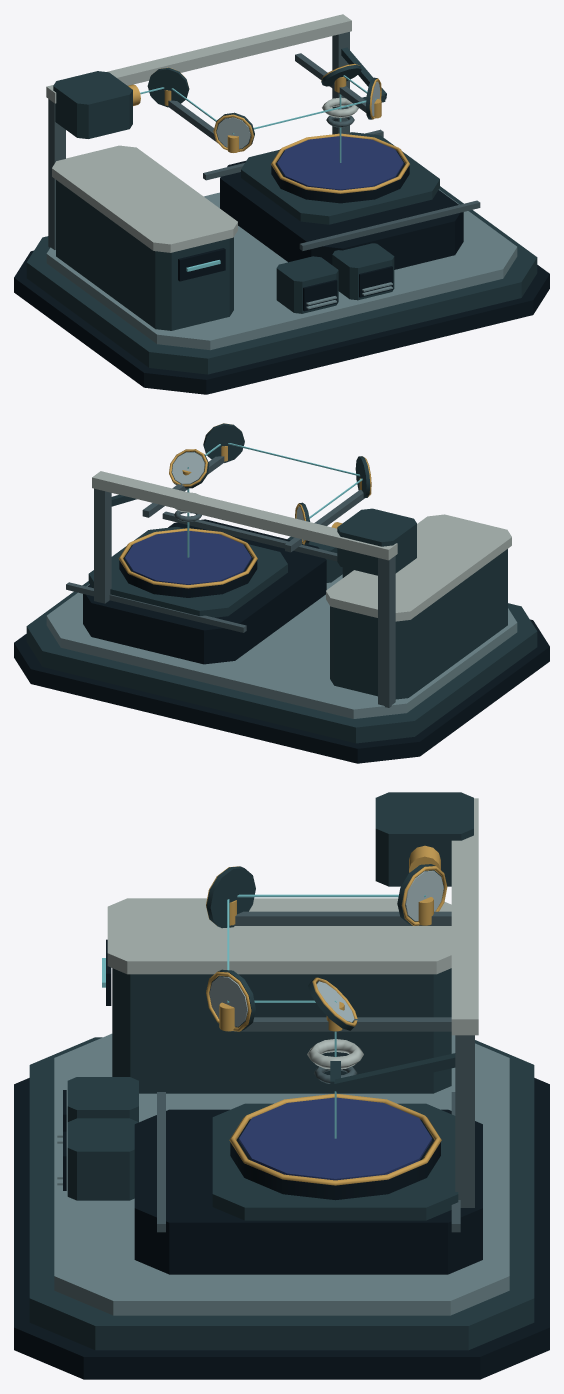
File: lit01_chip_writer_d0_lod2.glb
The picture shows the model from 3 angles, top to bottom: view 1: azimuth 30°, elevation 25°; view 2: azimuth 150°, elevation 25°; view 3: azimuth 270°, elevation 25°; orthographic projection. The views are drawn at different scales.
Visible parts, largest first — view 1: DISTANCE_GEOMETRY; view 2: DISTANCE_GEOMETRY; view 3: DISTANCE_GEOMETRY.
Part boxes in pixels (x1,y1,x2,y2): DISTANCE_GEOMETRY: (14, 14, 549, 394); DISTANCE_GEOMETRY: (14, 423, 549, 763); DISTANCE_GEOMETRY: (14, 792, 549, 1379).
Bounding box in the file's own units: 8 × 3.86 × 6.
